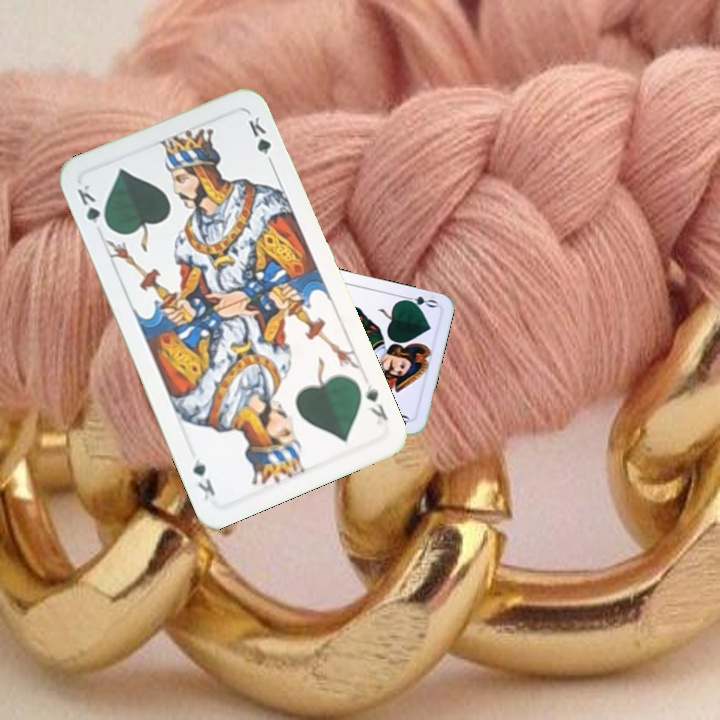GK: (73, 181, 112, 232), (361, 381, 391, 423)
GO: (398, 292, 439, 311)
